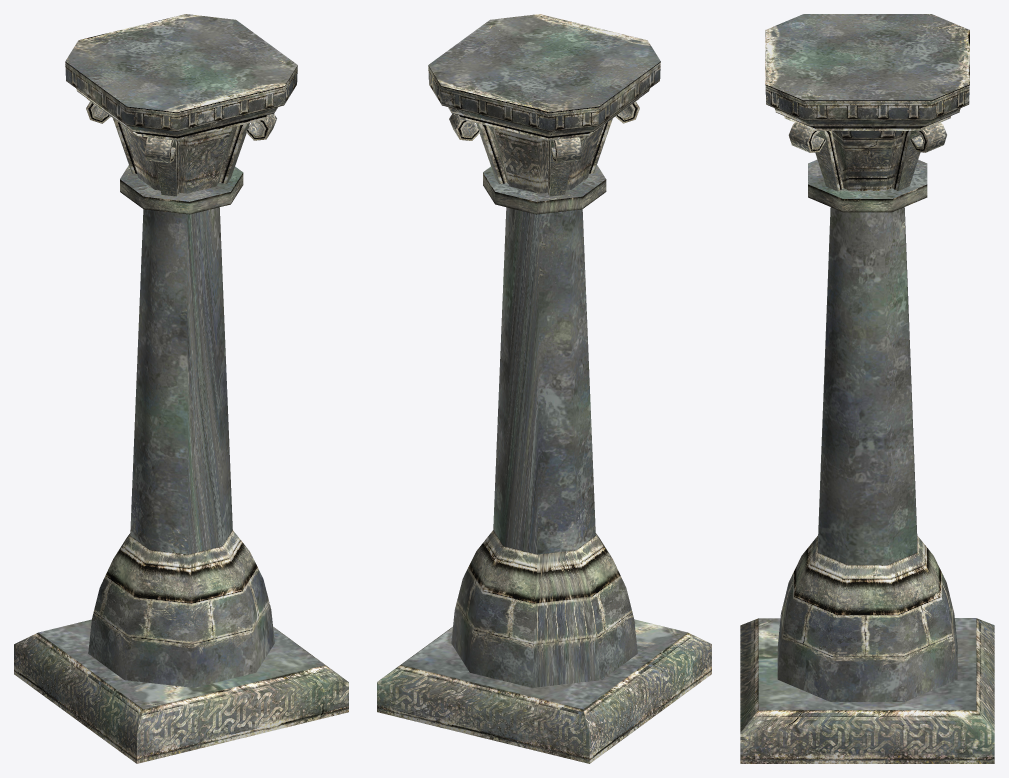
File: FBX_Pillar_LOD_01.fbx
3 renders of one model, left to right at view 1: azimuth 30°, elevation 25°; view 2: azimuth 150°, elevation 25°; view 3: azimuth 270°, elevation 25°, orthographic. The views are drawn at different scales.
Parts seen in each view (by area): view 1: Pillar, Base, BaseSphere, Top, CenterDecor, RingDecor, HookDecor_01, HookDecor_02, HookDecor_04; view 2: Pillar, Base, BaseSphere, Top, CenterDecor, RingDecor, HookDecor_04, HookDecor_03, HookDecor_01; view 3: Pillar, BaseSphere, Base, Top, CenterDecor, RingDecor, HookDecor_02, HookDecor_03.
Boxes of the visible parts, box(x1,y1,x2,y2) form: Pillar: box(130, 207, 232, 554); Base: box(14, 619, 348, 763); BaseSphere: box(88, 530, 274, 687); Top: box(65, 14, 297, 140); CenterDecor: box(122, 125, 237, 193); RingDecor: box(120, 165, 243, 214); HookDecor_01: box(145, 137, 178, 196); HookDecor_02: box(219, 113, 276, 183); HookDecor_04: box(86, 101, 136, 173); Pillar: box(493, 207, 595, 554); Base: box(377, 619, 711, 763); BaseSphere: box(451, 530, 637, 687); Top: box(428, 14, 660, 140); CenterDecor: box(489, 125, 603, 193); RingDecor: box(483, 165, 606, 214); HookDecor_04: box(547, 137, 581, 196); HookDecor_03: box(449, 113, 507, 184); HookDecor_01: box(589, 102, 639, 173); Pillar: box(818, 207, 917, 564); BaseSphere: box(777, 536, 957, 701); Base: box(740, 618, 994, 763); Top: box(765, 14, 969, 130); CenterDecor: box(831, 131, 903, 190); RingDecor: box(808, 159, 927, 212); HookDecor_02: box(788, 122, 843, 191); HookDecor_03: box(892, 122, 946, 190).
Size of the model in its own units: 124 by 350 by 123.
